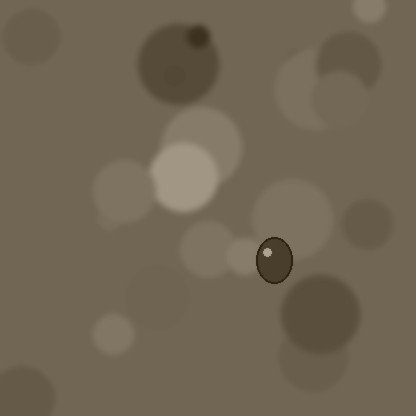gota: (256, 239, 292, 287)
